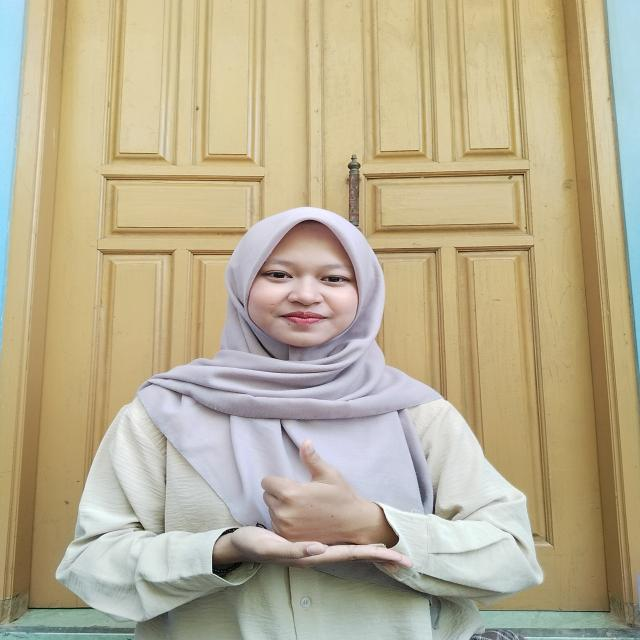cantik: (203, 433, 400, 572)
